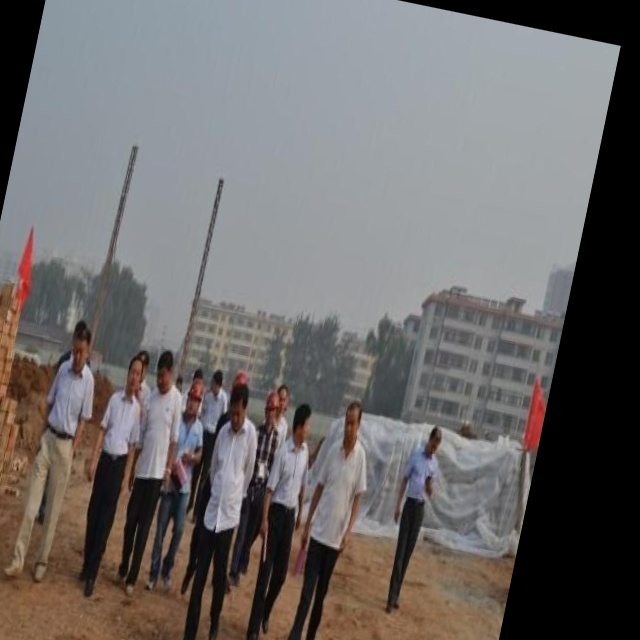Sin_Casco_Mascarrilla: (68, 326, 95, 376), (153, 348, 179, 397), (341, 398, 367, 446), (123, 355, 146, 399)
